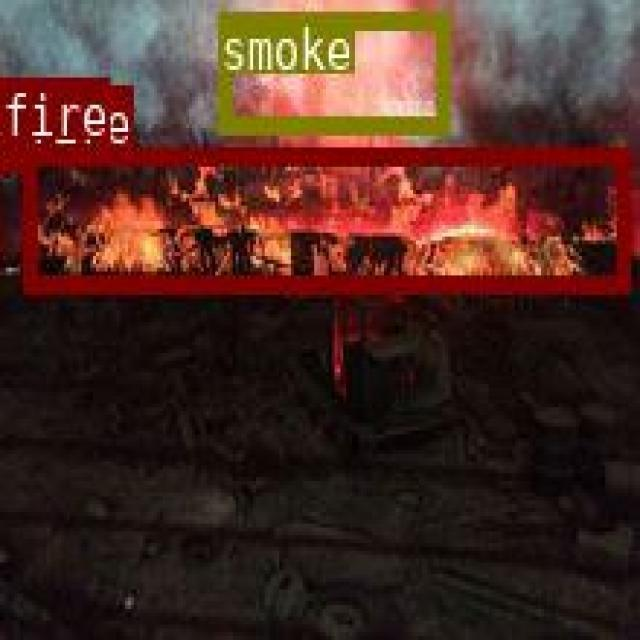fire: (21, 144, 626, 288), (0, 136, 32, 167)
smoke: (216, 8, 446, 129)
